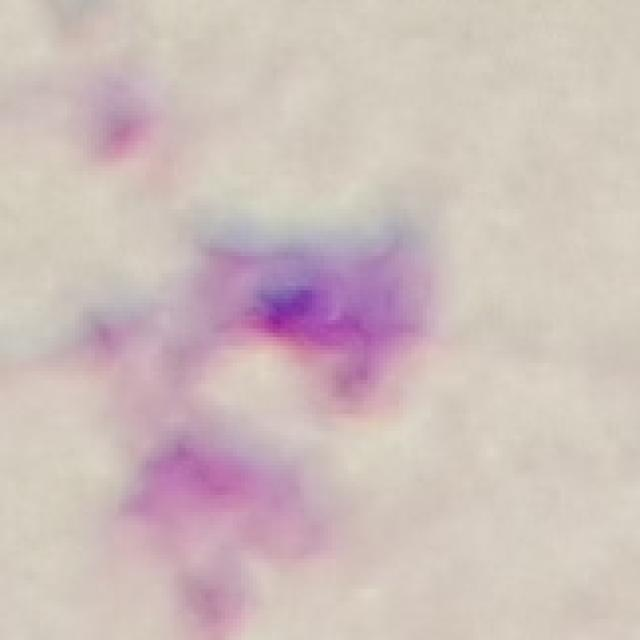non-sperm: (124, 227, 425, 546)
